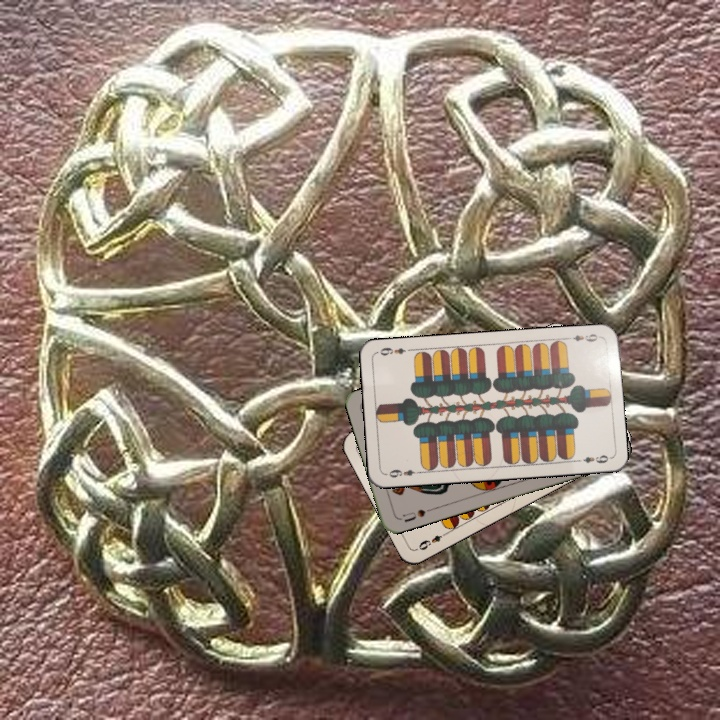E9: (414, 528, 451, 553), (562, 330, 603, 344), (385, 465, 423, 480)
SU: (399, 504, 435, 525)
